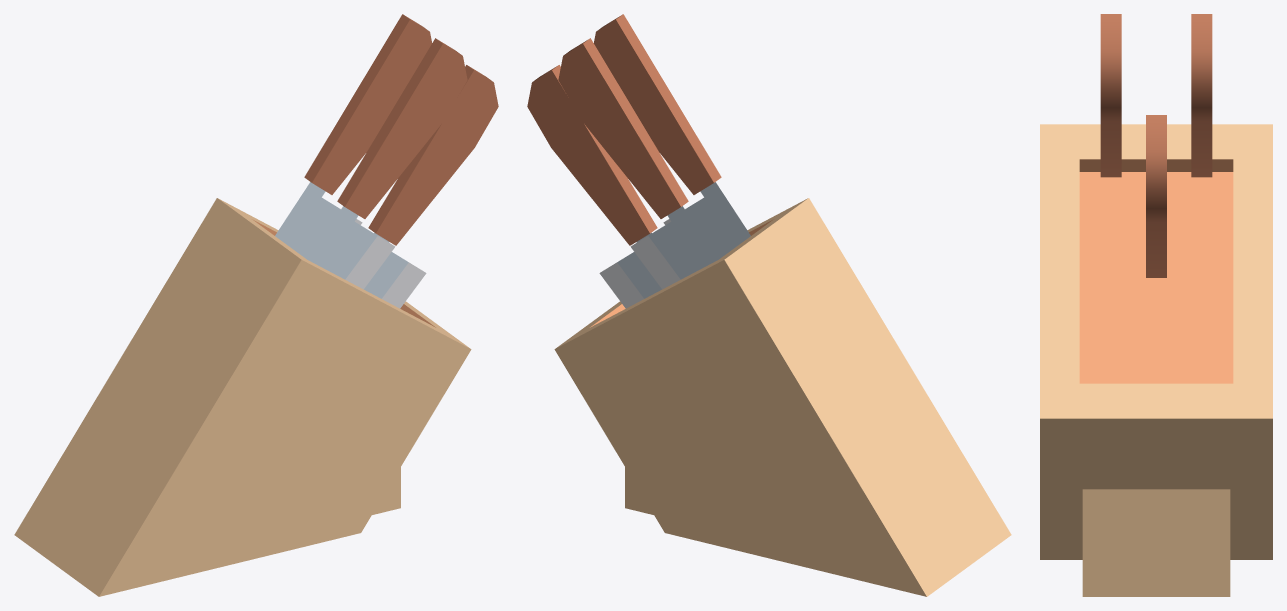
The model's file is knifeBlock.fbx.
3 views of the same model, side by side, from view 1: azimuth 30°, elevation 25°; view 2: azimuth 150°, elevation 25°; view 3: azimuth 270°, elevation 25° (orthographic). The views are drawn at different scales.
Visible parts, largest first — view 1: knifeBlock, cookingKnife (×3); view 2: knifeBlock, cookingKnife (×3); view 3: knifeBlock, cookingKnife (×3).
Part boxes in pixels (left/top/right/bottom): knifeBlock: left=14, top=198, right=471, bottom=596; cookingKnife (×3): left=275, top=14, right=498, bottom=308; knifeBlock: left=554, top=198, right=1011, bottom=596; cookingKnife (×3): left=527, top=14, right=750, bottom=308; knifeBlock: left=1040, top=124, right=1272, bottom=596; cookingKnife (×3): left=1100, top=14, right=1212, bottom=277.
Size of the model in its own units: 6.63 by 6.47 by 2.22.
